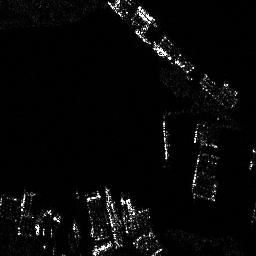ship: (161, 119, 169, 160)
